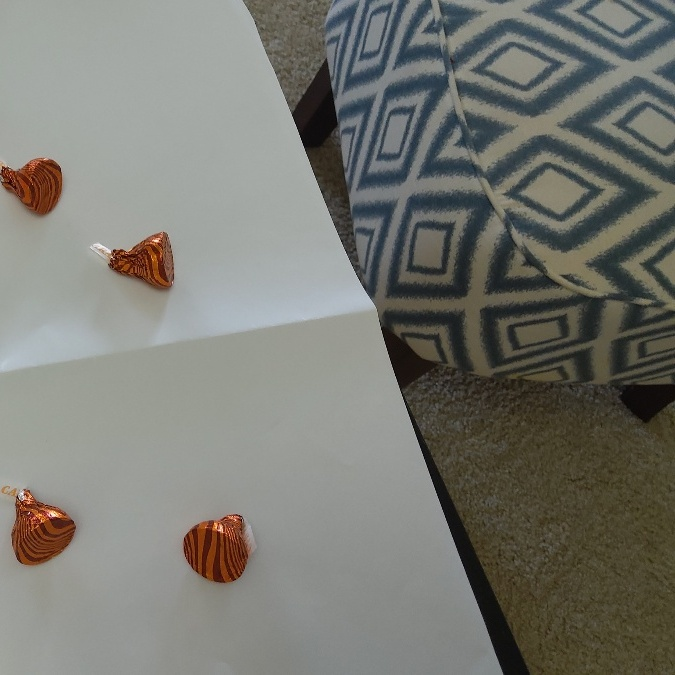chocolate_gold: (181, 505, 253, 587), (8, 488, 80, 569), (103, 227, 178, 292)
